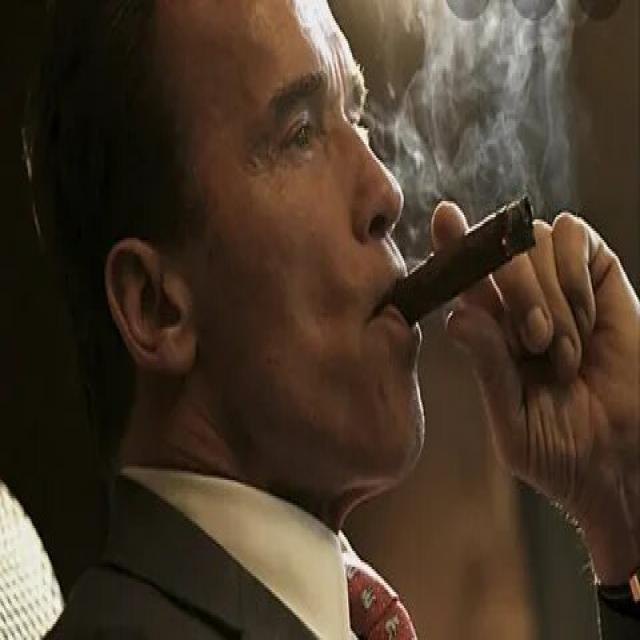smoke: (393, 194, 539, 334)
